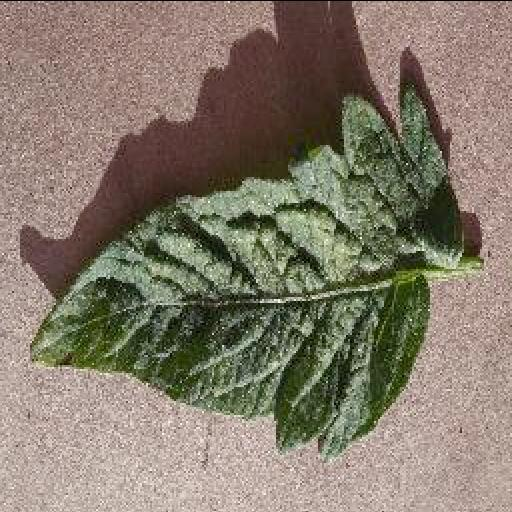disease_tomato: (31, 84, 465, 457)
